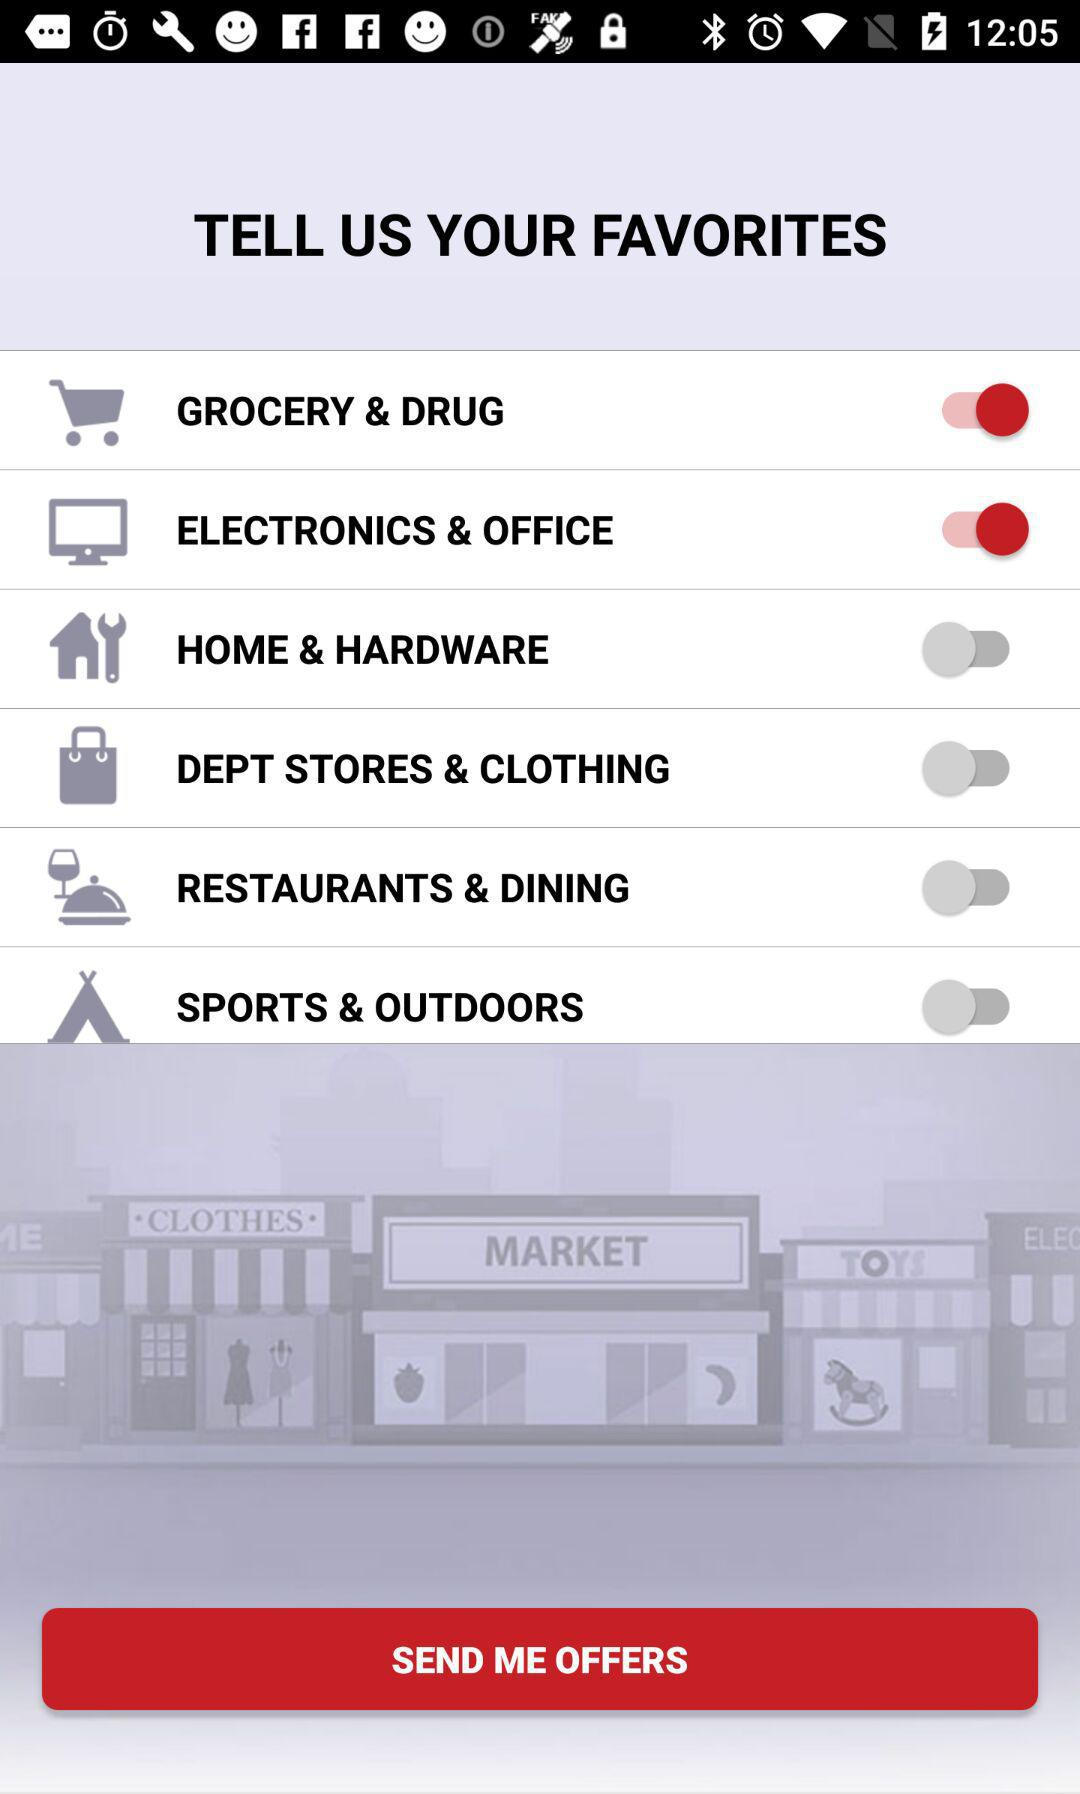Icon: (49, 611, 129, 686), (47, 379, 127, 450), (59, 724, 120, 807)
Image: (44, 966, 135, 1044), (47, 847, 135, 926), (47, 498, 129, 568)
Switch: (920, 859, 1011, 919), (920, 739, 1011, 800), (920, 621, 1011, 682), (921, 978, 1011, 1038), (942, 501, 1030, 560), (940, 383, 1030, 440)
Text: (193, 211, 888, 259), (177, 753, 670, 786), (178, 871, 630, 903), (178, 515, 614, 547), (177, 991, 584, 1024), (178, 634, 550, 666), (177, 396, 505, 428)
TextButton: (41, 1607, 1040, 1712)
UpperTaskBar: (1, 1, 1080, 64)
